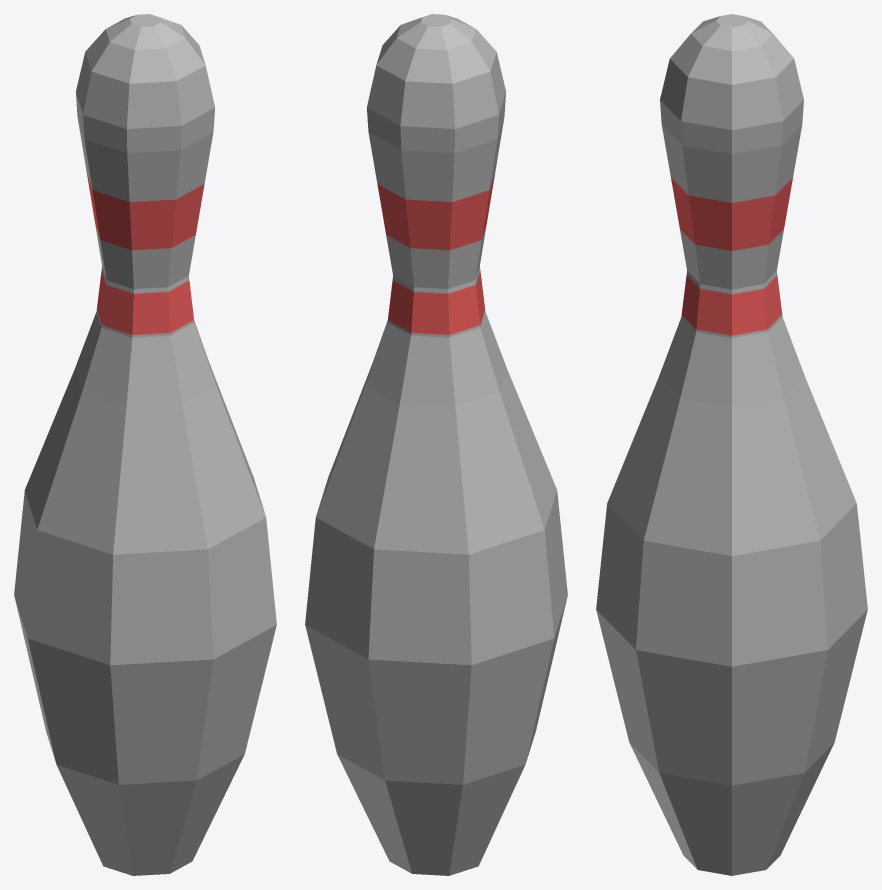
The model's file is SPin.obj.
3 views of the same model, side by side, from view 1: azimuth 30°, elevation 25°; view 2: azimuth 150°, elevation 25°; view 3: azimuth 270°, elevation 25° (orthographic).
Visible parts, largest first — view 1: Circle; view 2: Circle; view 3: Circle.
Part boxes in pixels (x1,y1,x2,y2): Circle: (14,14,276,875); Circle: (305,14,567,875); Circle: (596,14,867,875).
Size of the model in its own units: 0.9923 by 3.36 by 0.9923.
1 material, 1 textured.
